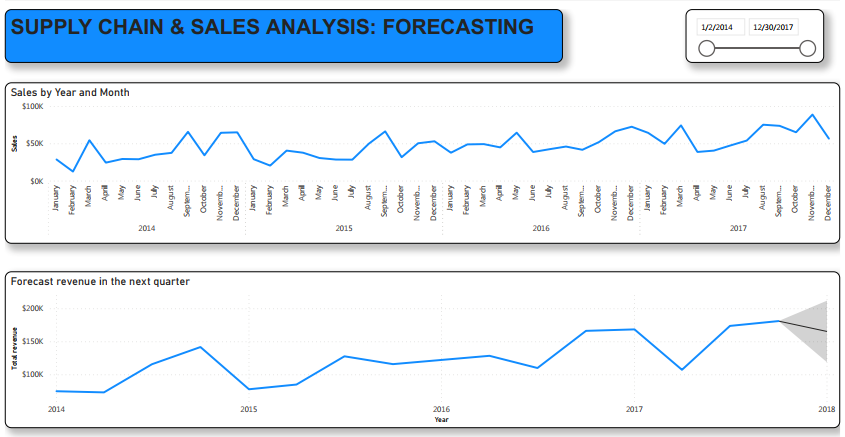

What the dashboard file says about the page in this screenshot:
{"tool":"powerbi","page":{"name":"Forecasting","canvas":[1280,720],"ordinal":3},"visuals":[{"type":"lineChart","fields":{"Y":["Sum(Supply Chain & Sales.Sales)"],"Category":["Calendar.Date.Variation.Date Hierarchy.Year","Calendar.Date.Variation.Date Hierarchy.Month"]},"box":[0,112.2,1280,247.2],"z":0},{"type":"lineChart","title":"Forecast revenue in the next quarter","fields":{"Y":["Measures (2).Total revenue"],"Category":["Calendar.Date.Variation.Date Hierarchy.Year","Calendar.Date.Variation.Date Hierarchy.Quarter"]},"box":[0,401.9,1280,239.6],"z":1000},{"type":"slicer","fields":{"Values":["Calendar.Date"]},"box":[1043.4,0,212.3,81.9],"z":2000},{"type":"textbox","box":[0,0,855.4,81.9],"z":3000}]}

Visuals, with their boxes on the page's 1280x720 design canvas (x1, y1, x2, y2). These are canvas units, not pixel positions in the 845x437 screenshot, which may show the page scaled, cropped or inside an application window:
lineChart - Sum(Supply Chain & Sales.Sales) x Calendar.Date.Variation.Date Hierarchy.Year: pyautogui.locateOnScreen(0, 112, 1280, 359)
"Forecast revenue in the next quarter" lineChart: pyautogui.locateOnScreen(0, 402, 1280, 642)
slicer - Calendar.Date: pyautogui.locateOnScreen(1043, 0, 1256, 82)
textbox: pyautogui.locateOnScreen(0, 0, 855, 82)
